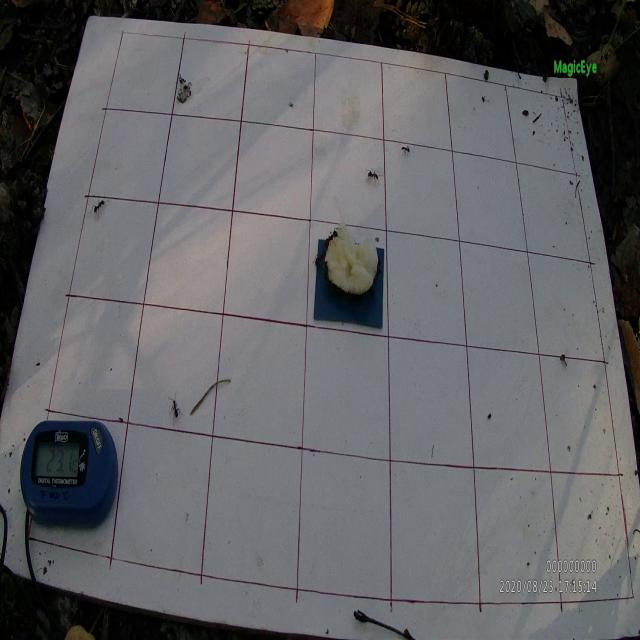Ant: (168, 392, 184, 428), (88, 195, 110, 220), (326, 227, 346, 246), (311, 248, 329, 266), (366, 169, 382, 187), (400, 142, 412, 158)
